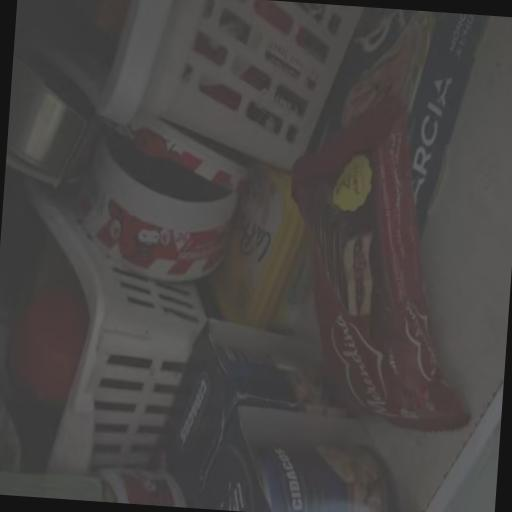merendina: (245, 88, 512, 454)
